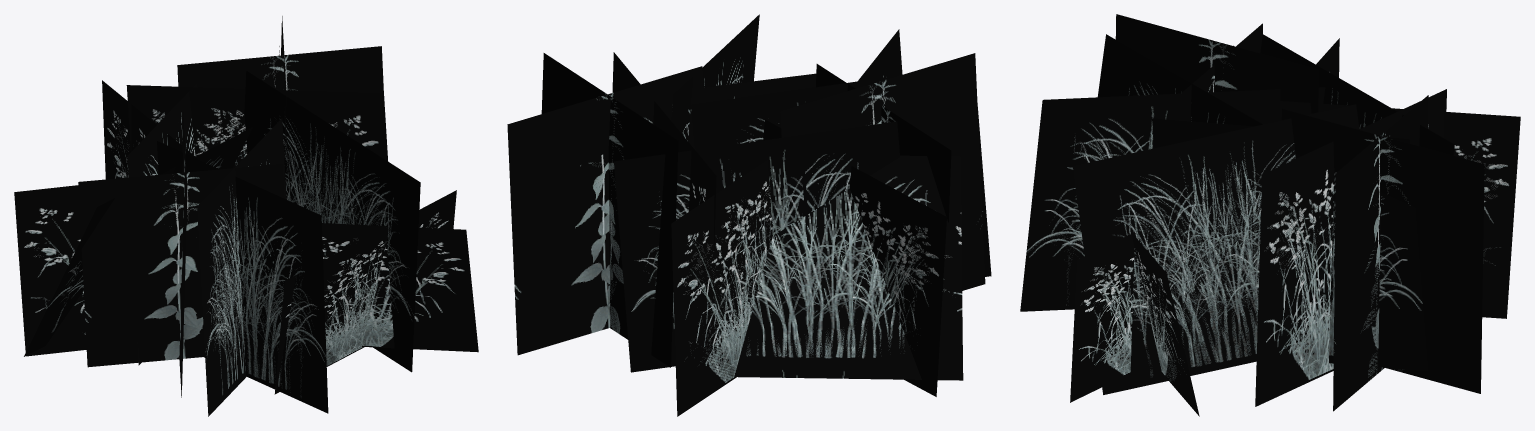
The model's file is grass_small.dae.
3 renders of one model, left to right at view 1: azimuth 30°, elevation 25°; view 2: azimuth 150°, elevation 25°; view 3: azimuth 270°, elevation 25°, orthographic. The views are drawn at different scales.
Parts seen in each view (by area): view 1: Plane_002; view 2: Plane_002; view 3: Plane_002.
Boxes of the visible parts, <box> form: Plane_002: <box>14,16,478,416</box>; Plane_002: <box>507,14,991,416</box>; Plane_002: <box>1020,14,1520,416</box>.
Bounding box in the file's own units: 0.8603 × 0.881 × 0.5085.
Materials: 1 (1 with a texture image).
